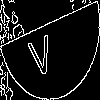V: (25, 25, 55, 79)
